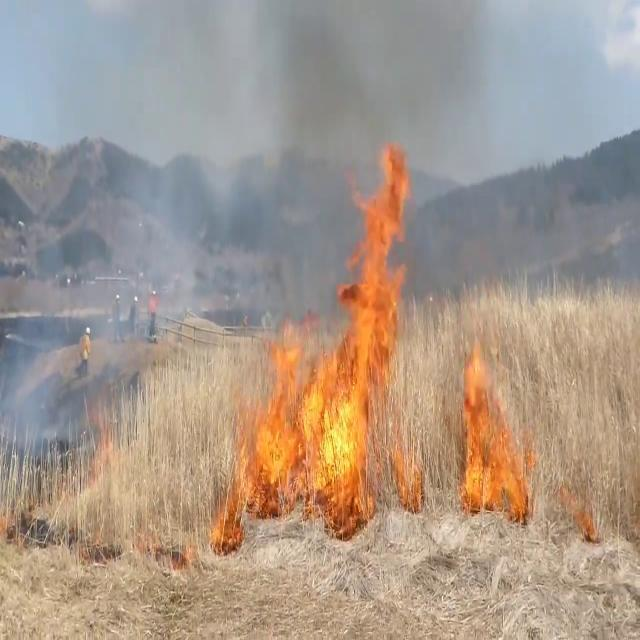Fire: (239, 131, 423, 512), (454, 334, 526, 516)
Smoke: (30, 0, 394, 388)
